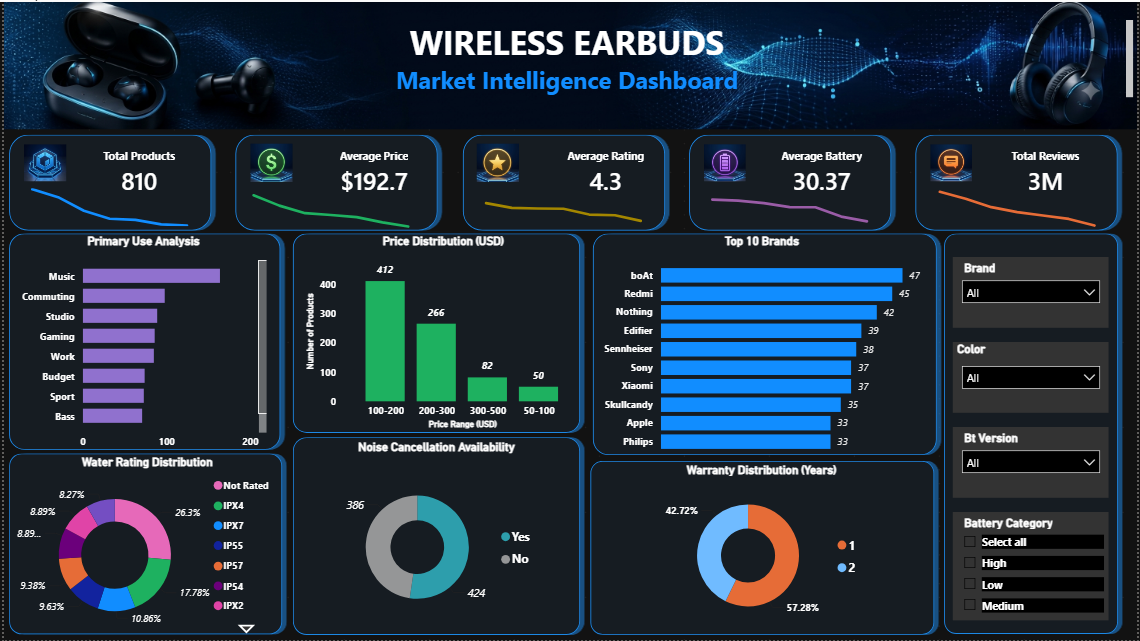

What the dashboard file says about the page in this screenshot:
{"tool":"powerbi","page":{"name":"Page 1","canvas":[1280,720],"ordinal":0},"visuals":[{"type":"shape","box":[0,144,240,120],"z":0},{"type":"cardVisual","fields":{"Data":["wireless_headphones.Total Products"]},"box":[80,144,144,96],"z":1000},{"type":"image","box":[0,0,1280,144],"z":2000},{"type":"textbox","box":[0,16,1280,144],"z":3000},{"type":"shape","box":[512,144,240,120],"z":4000},{"type":"shape","box":[768,144,240,120],"z":5000},{"type":"shape","box":[1024,144,240,120],"z":6000},{"type":"shape","box":[256,144,240,120],"z":7000},{"type":"image","box":[22,150,48,64],"z":8000},{"type":"lineChart","fields":{"Category":["wireless_headphones.release_year"],"Y":["wireless_headphones.Total Products"]},"box":[16,197,208,61],"z":9000},{"type":"image","box":[278,150,48,64],"z":10000},{"type":"cardVisual","fields":{"Data":["wireless_headphones.Average Price"]},"box":[346,144,144,96],"z":11000},{"type":"lineChart","fields":{"Category":["wireless_headphones.release_year"],"Y":["wireless_headphones.Average Price"]},"box":[265,200,208,61],"z":12000},{"type":"image","box":[534,150,48,64],"z":13000},{"type":"cardVisual","fields":{"Data":["wireless_headphones.Average Rating"]},"box":[592,144,176,96],"z":14000},{"type":"lineChart","fields":{"Category":["wireless_headphones.release_year"],"Y":["wireless_headphones.Average Rating"]},"box":[528,200,208,64],"z":15000},{"type":"image","box":[790,150,47,64],"z":16000},{"type":"cardVisual","fields":{"Data":["wireless_headphones.Average Battery"]},"box":[848,144,150,96],"z":17000},{"type":"cardVisual","fields":{"Data":["wireless_headphones.Total Reviews"]},"box":[1104,144,144,96],"z":18000},{"type":"image","box":[1046,150,47,64],"z":19000},{"type":"lineChart","fields":{"Category":["wireless_headphones.release_year"],"Y":["Sum(wireless_headphones.review_count)"]},"box":[1040,197,208,64],"z":20000},{"type":"lineChart","fields":{"Category":["wireless_headphones.release_year"],"Y":["wireless_headphones.Average Battery"]},"box":[784,200,208,64],"z":21000},{"type":"shape","box":[0,256,318,256],"z":22000},{"type":"clusteredBarChart","title":"Primary Use Analysis","fields":{"Category":["wireless_headphones.primary_use.1"],"Y":["CountNonNull(wireless_headphones.product_name)"]},"box":[14,263,287,251],"z":23000},{"type":"shape","box":[0,504,320,216],"z":24000},{"type":"donutChart","title":"Water Rating Distribution","fields":{"Category":["wireless_headphones.water_rating"],"Y":["CountNonNull(wireless_headphones.product_name)"]},"box":[10,512,304,208],"z":25000},{"type":"shape","box":[659,256,400,262],"z":26000},{"type":"clusteredBarChart","title":"Top 10 Brands","fields":{"Category":["wireless_headphones.brand"],"Y":["CountNonNull(wireless_headphones.product_name)"]},"box":[672,263,368,256],"z":27000},{"type":"shape","box":[320,485,336,235],"z":28000},{"type":"donutChart","title":"Noise Cancellation Availability","fields":{"Category":["wireless_headphones.noise_cancellation"],"Y":["CountNonNull(wireless_headphones.product_name)"]},"box":[368,496,240,224],"z":29000},{"type":"shape","box":[320,256,336,237],"z":30000},{"type":"shape","box":[657,512,400,208],"z":31000},{"type":"clusteredColumnChart","title":"Price Distribution (USD)","fields":{"Y":["CountNonNull(wireless_headphones.product_name)"],"Category":["wireless_headphones.price_range"]},"box":[336,263,320,224],"z":32000},{"type":"donutChart","title":"Warranty Distribution (Years)","fields":{"Category":["wireless_headphones.warranty_yrs"],"Y":["CountNonNull(wireless_headphones.product_name)"]},"box":[736,521,240,192],"z":33000},{"type":"shape","box":[1056,256,208,464],"z":34000},{"type":"slicer","fields":{"Values":["wireless_headphones.brand"]},"box":[1072,288,176,80],"z":35000},{"type":"slicer","title":"Color","fields":{"Values":["wireless_headphones.color"]},"box":[1072,384,176,80],"z":36000},{"type":"slicer","fields":{"Values":["wireless_headphones.battery_category"]},"box":[1072,576,176,122],"z":37000},{"type":"slicer","fields":{"Values":["wireless_headphones.bt_version"]},"box":[1072,480,176,80],"z":38000}]}

Visuals, with their boxes in screenshot pixels (x1, y1, x2, y2), scaled from the page's 1280x720 canvas onto the 1140x641 screenshot:
shape: detection(0, 128, 214, 235)
cardVisual - wireless_headphones.Total Products: detection(71, 128, 200, 214)
image: detection(0, 0, 1139, 128)
textbox: detection(0, 14, 1139, 142)
shape: detection(456, 128, 670, 235)
shape: detection(684, 128, 898, 235)
shape: detection(912, 128, 1126, 235)
shape: detection(228, 128, 442, 235)
image: detection(20, 134, 62, 191)
lineChart - wireless_headphones.release_year x wireless_headphones.Total Products: detection(14, 175, 200, 230)
image: detection(248, 134, 290, 191)
cardVisual - wireless_headphones.Average Price: detection(308, 128, 436, 214)
lineChart - wireless_headphones.release_year x wireless_headphones.Average Price: detection(236, 178, 421, 232)
image: detection(476, 134, 518, 191)
cardVisual - wireless_headphones.Average Rating: detection(527, 128, 684, 214)
lineChart - wireless_headphones.release_year x wireless_headphones.Average Rating: detection(470, 178, 656, 235)
image: detection(704, 134, 745, 191)
cardVisual - wireless_headphones.Average Battery: detection(755, 128, 889, 214)
cardVisual - wireless_headphones.Total Reviews: detection(983, 128, 1112, 214)
image: detection(932, 134, 973, 191)
lineChart - wireless_headphones.release_year x Sum(wireless_headphones.review_count): detection(926, 175, 1112, 232)
lineChart - wireless_headphones.release_year x wireless_headphones.Average Battery: detection(698, 178, 884, 235)
shape: detection(0, 228, 283, 456)
"Primary Use Analysis" clusteredBarChart: detection(12, 234, 268, 458)
shape: detection(0, 449, 285, 640)
"Water Rating Distribution" donutChart: detection(9, 456, 280, 640)
shape: detection(587, 228, 943, 461)
"Top 10 Brands" clusteredBarChart: detection(598, 234, 926, 462)
shape: detection(285, 432, 584, 640)
"Noise Cancellation Availability" donutChart: detection(328, 442, 542, 640)
shape: detection(285, 228, 584, 439)
shape: detection(585, 456, 941, 640)
"Price Distribution (USD)" clusteredColumnChart: detection(299, 234, 584, 434)
"Warranty Distribution (Years)" donutChart: detection(656, 464, 869, 635)
shape: detection(940, 228, 1126, 640)
slicer - wireless_headphones.brand: detection(955, 256, 1112, 328)
"Color" slicer: detection(955, 342, 1112, 413)
slicer - wireless_headphones.battery_category: detection(955, 513, 1112, 621)
slicer - wireless_headphones.bt_version: detection(955, 427, 1112, 499)
